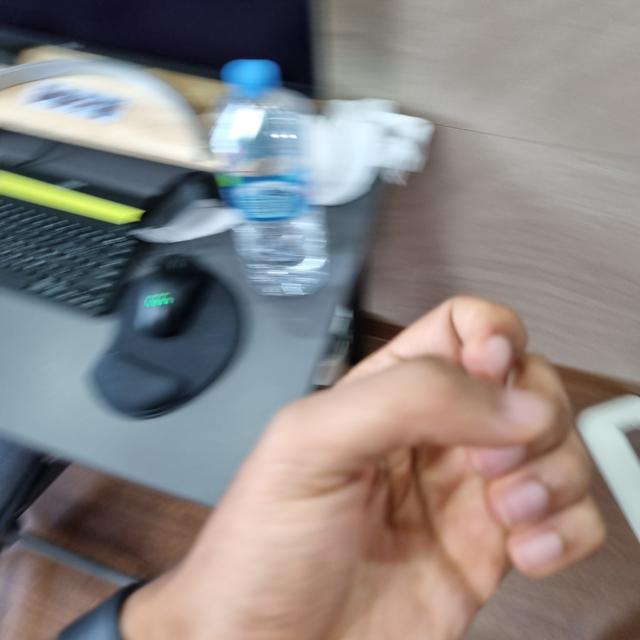Rock: (19, 301, 578, 639)
